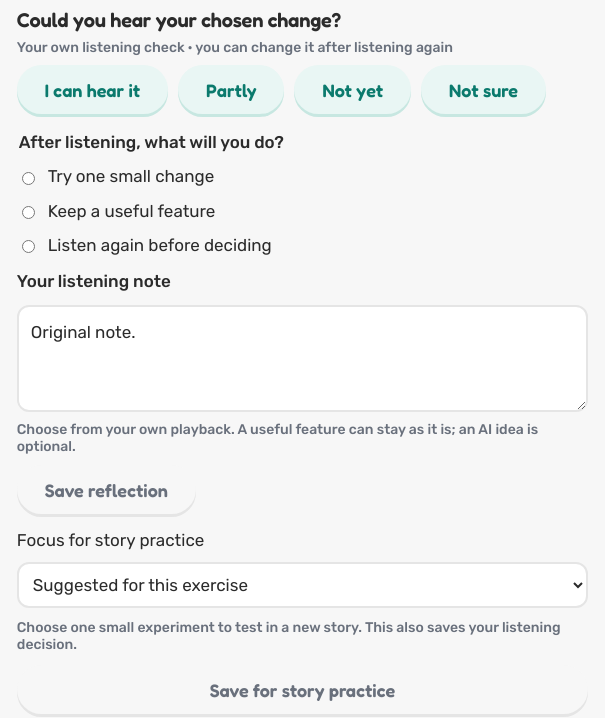
a late reflection save updates its take without changing the selected history entry
The image size is (605, 718).
(page scrolled)
Replace the text in the text box with "A saved note." at [302, 358], box 17,305 -> 588,412
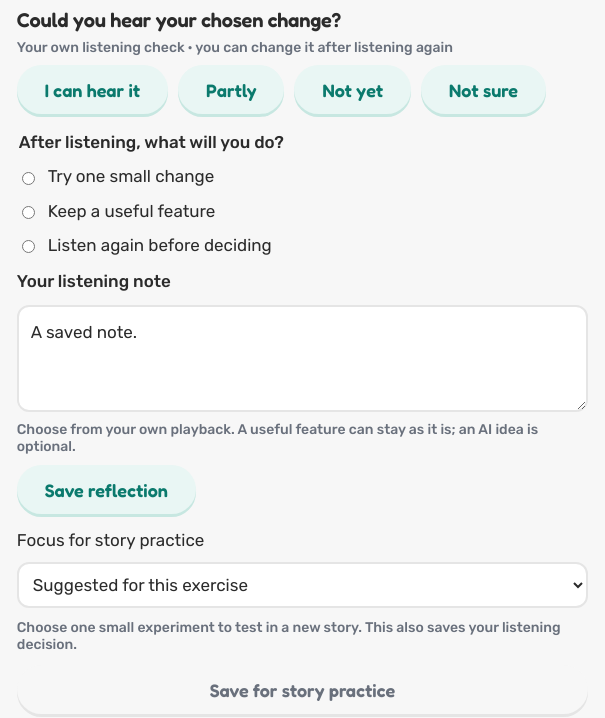
Click the button "Save reflection" at [106, 490], box 17,465 -> 196,514
(page scrolled)
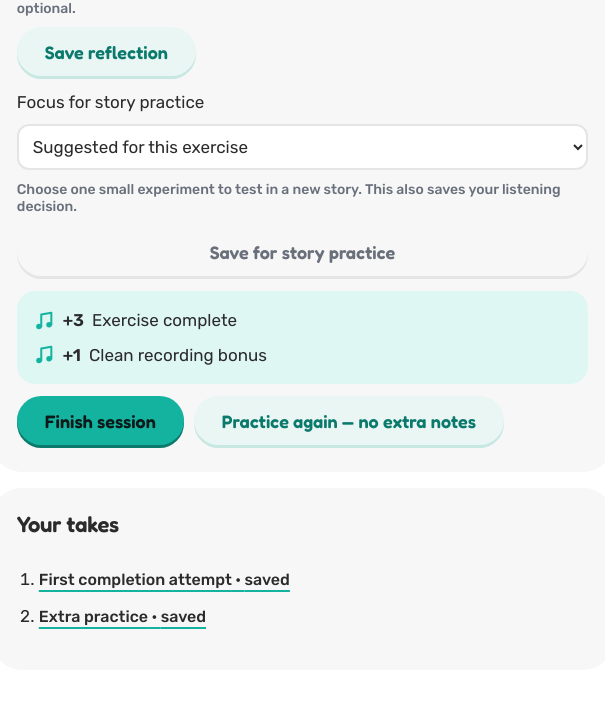
Click the button "Extra practice · saved" at [122, 616], box 39,607 -> 206,626
(page scrolled)
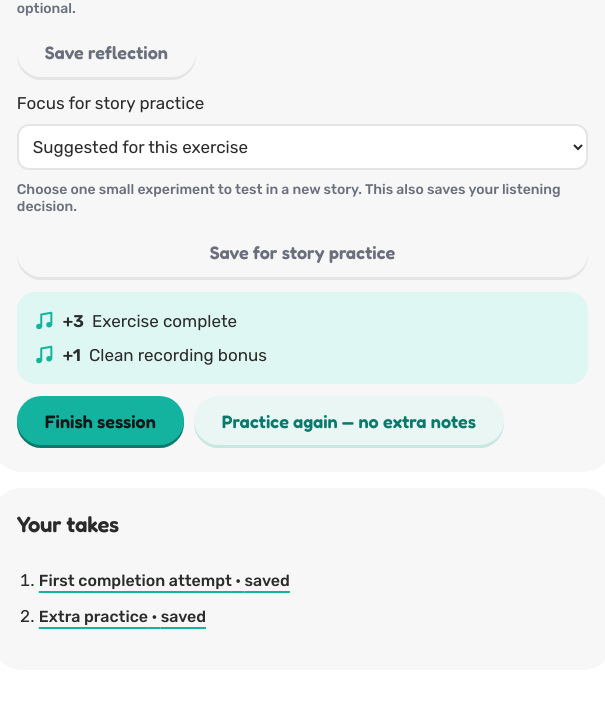
Click the button "First completion attempt · saved" at [164, 580], box 39,571 -> 290,590
(page scrolled)
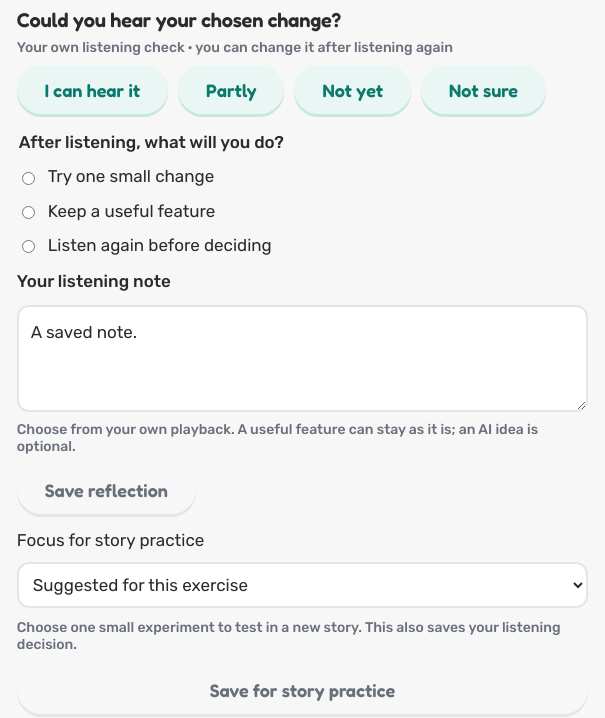
Now the text box holds "A saved note.", box 17,305 -> 588,412
